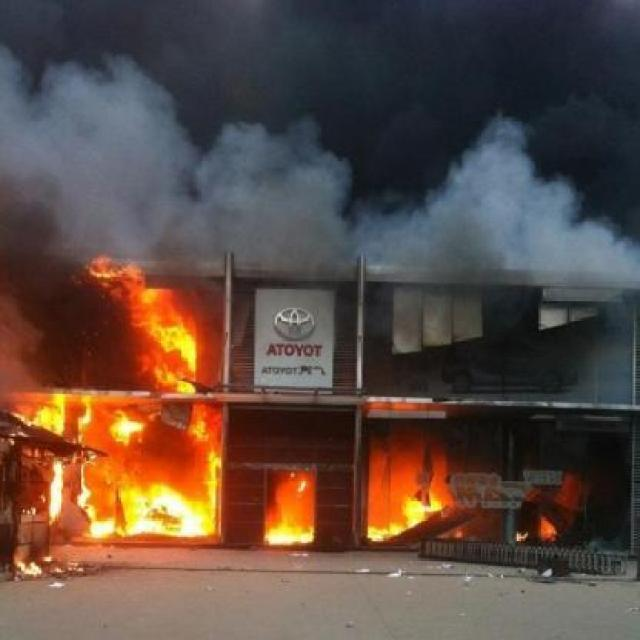Fire: (84, 256, 226, 546), (254, 446, 479, 546), (0, 384, 69, 534), (523, 473, 589, 554)
Smoke: (0, 2, 640, 283), (4, 284, 83, 384)
